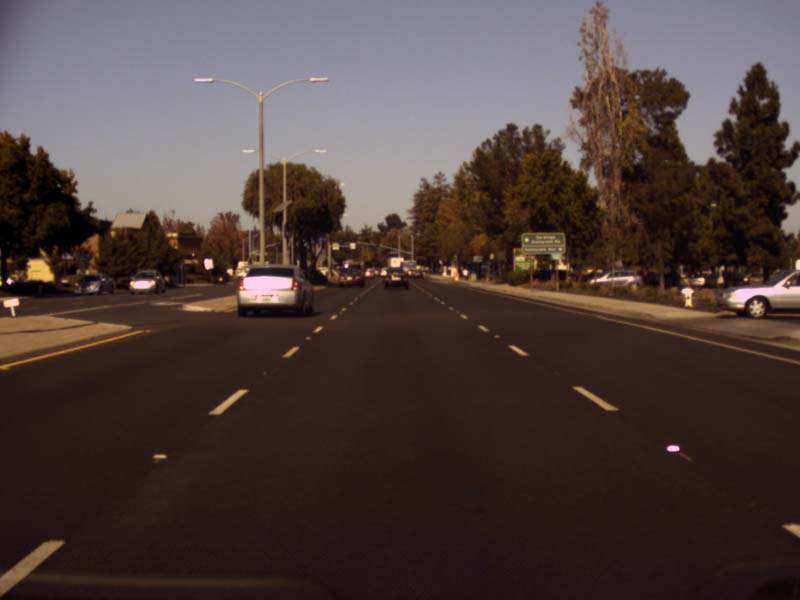Green: (375, 244, 379, 248)
